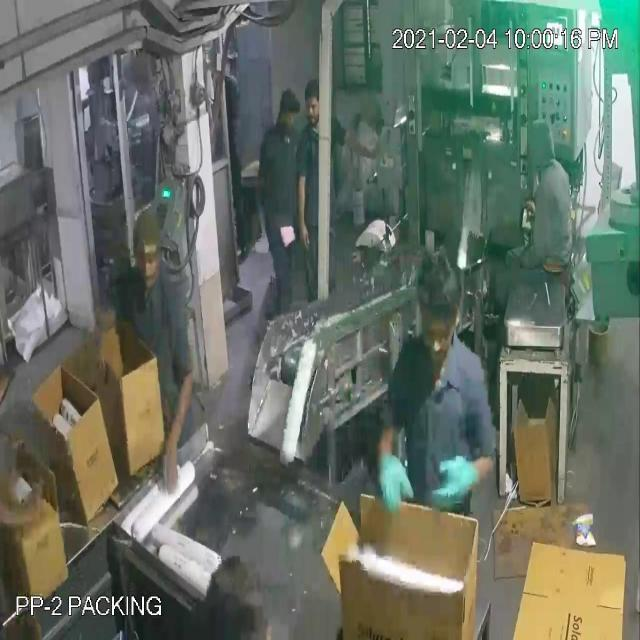No_Gloves: (24, 72, 450, 480)
